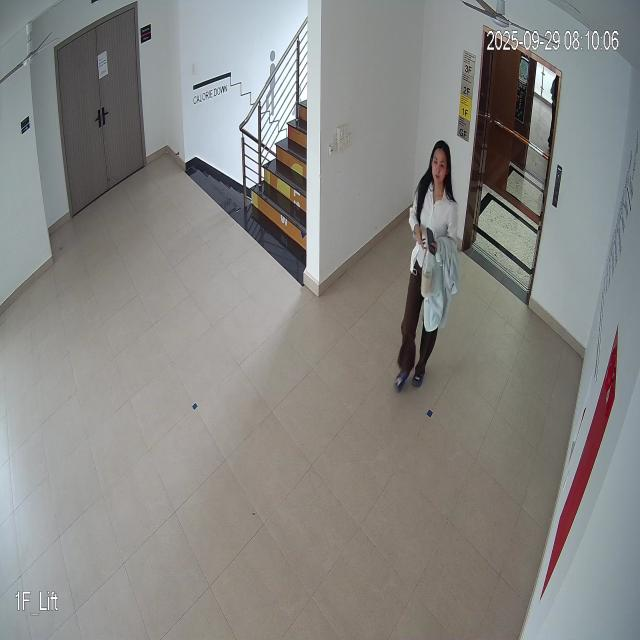face: (429, 141, 451, 189)
